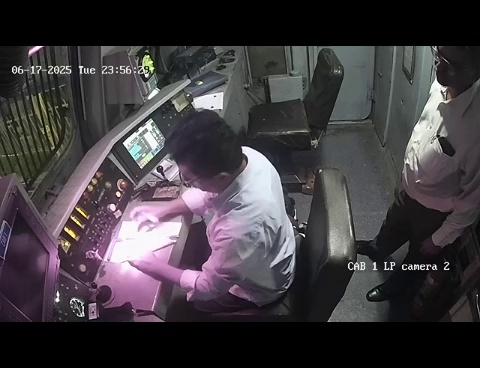horn_inactive: (79, 276, 120, 312)
